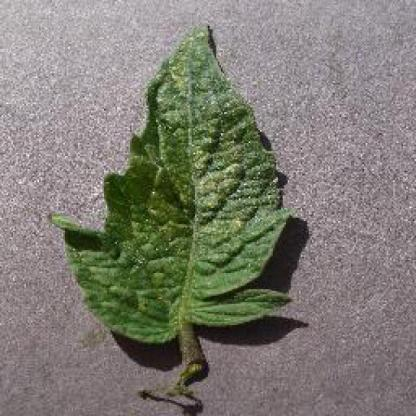Tomato_Spider_Mites: (56, 25, 294, 341)
